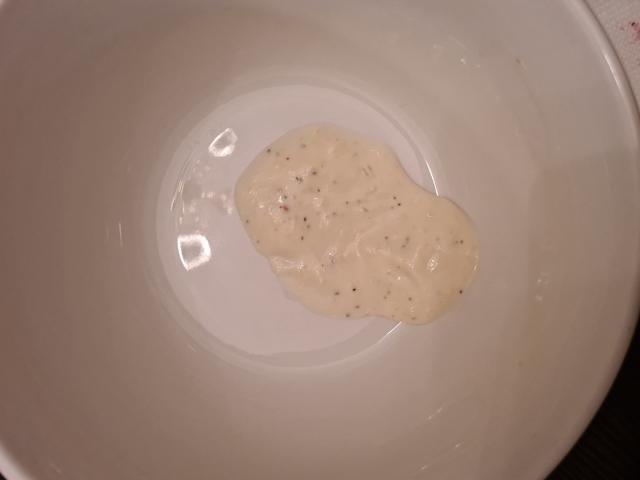kichen waste: (235, 126, 478, 326)
